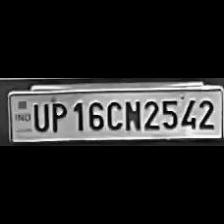1: (68, 100, 86, 132)
2: (196, 96, 214, 130), (141, 97, 159, 130)
4: (180, 96, 196, 130)
5: (158, 96, 178, 130)
6: (86, 99, 104, 131)
C: (104, 98, 122, 130)
N: (122, 98, 140, 132)
P: (48, 100, 68, 132)
U: (29, 98, 48, 132)
